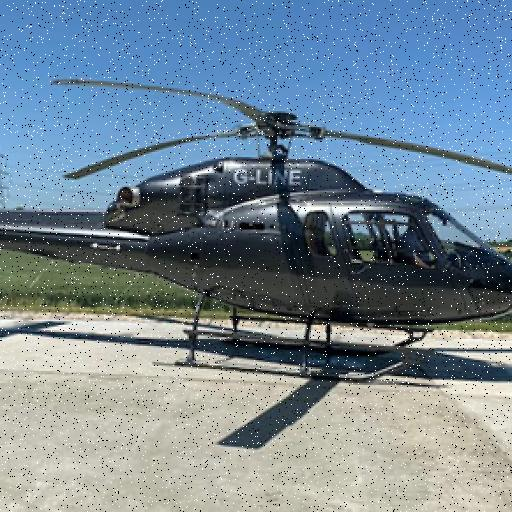helicopter: (1, 58, 512, 404)
